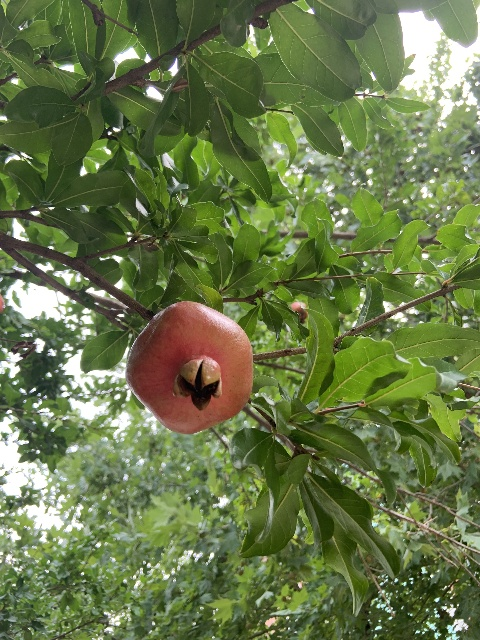ripe: (125, 300, 253, 434)
